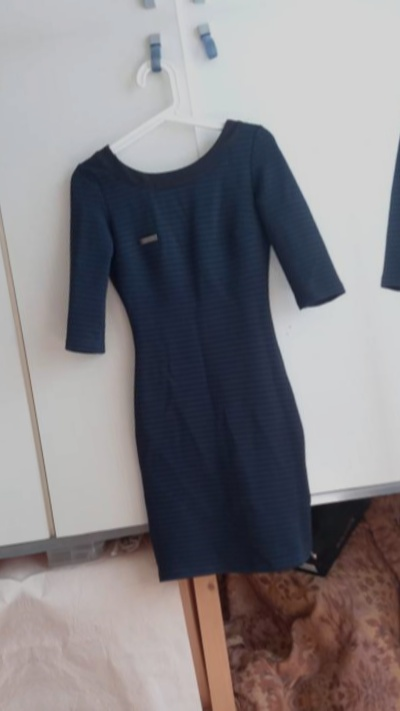Dress: (15, 80, 393, 649), (349, 29, 400, 598)
